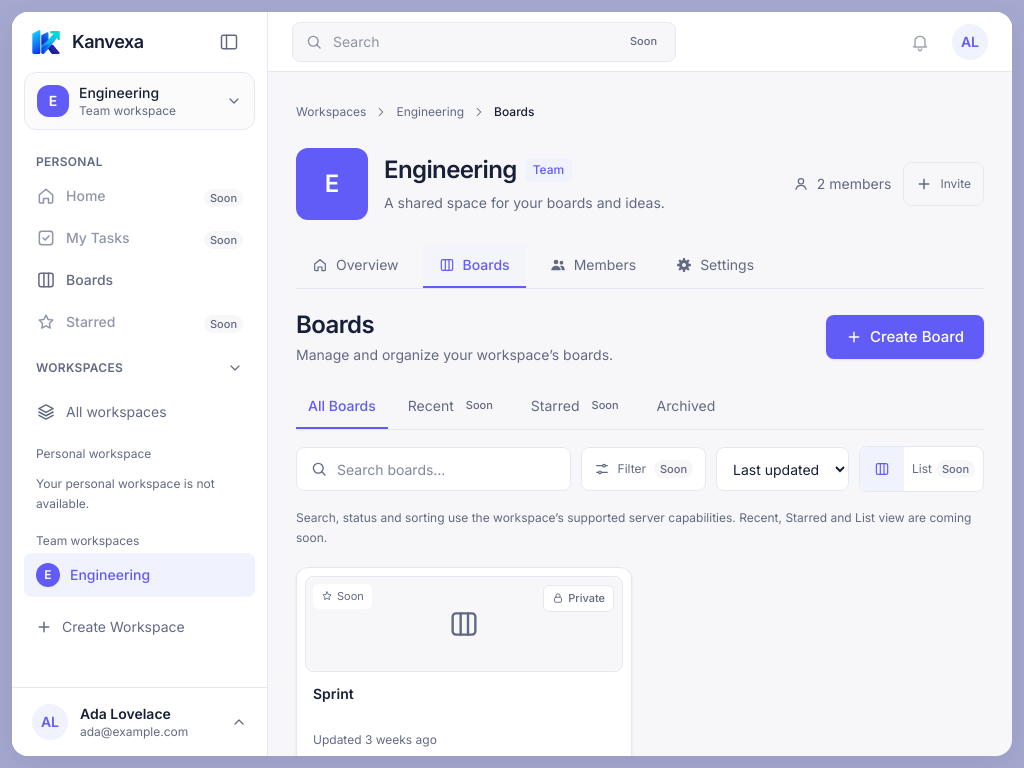
Test case: Workspace routes using production HTTP adapters › rechecks permissions after Board creation receives 403, without retrying the POST
The image size is (1024, 768).
Click the button "Create Board" at {"x": 905, "y": 337}, box [826,315,984,359]
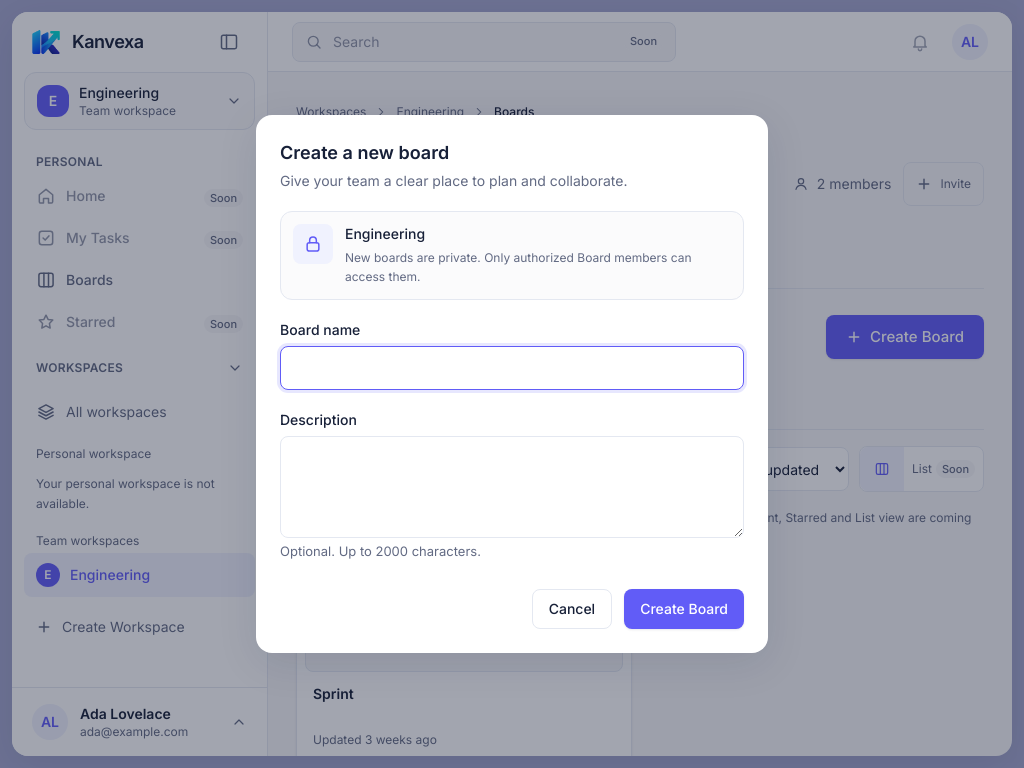
Type "Retained draft" into the field labelled "Board name" at {"x": 512, "y": 368}, box [280,346,744,390]
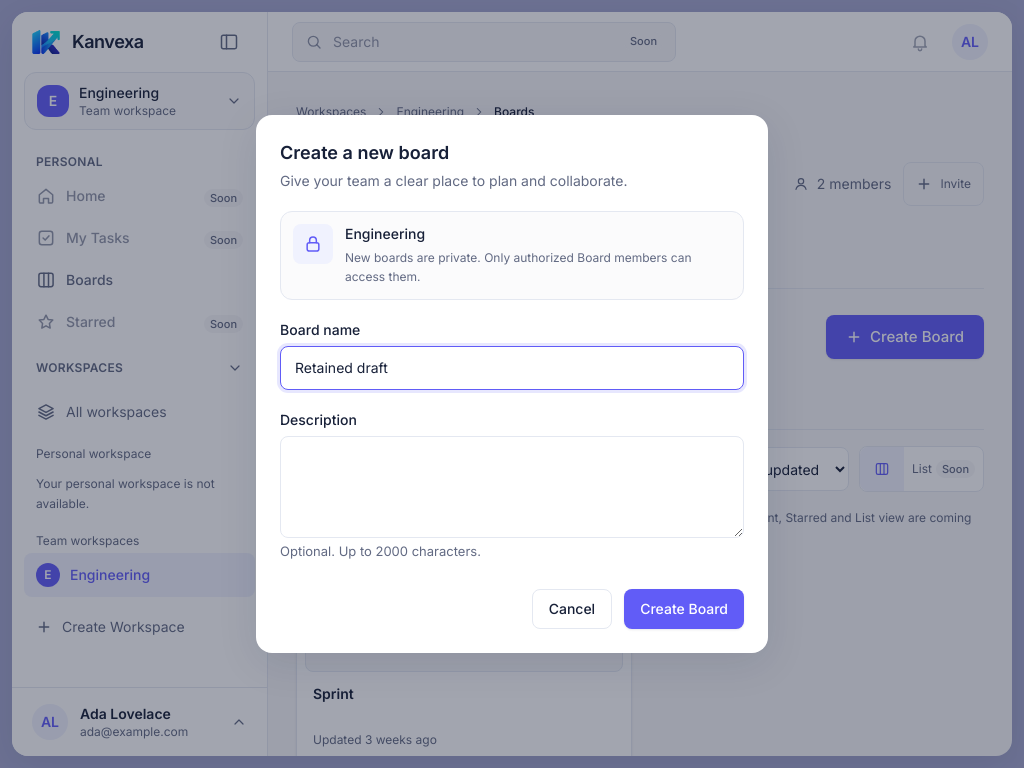
Submit the form, box [280,320,744,629]
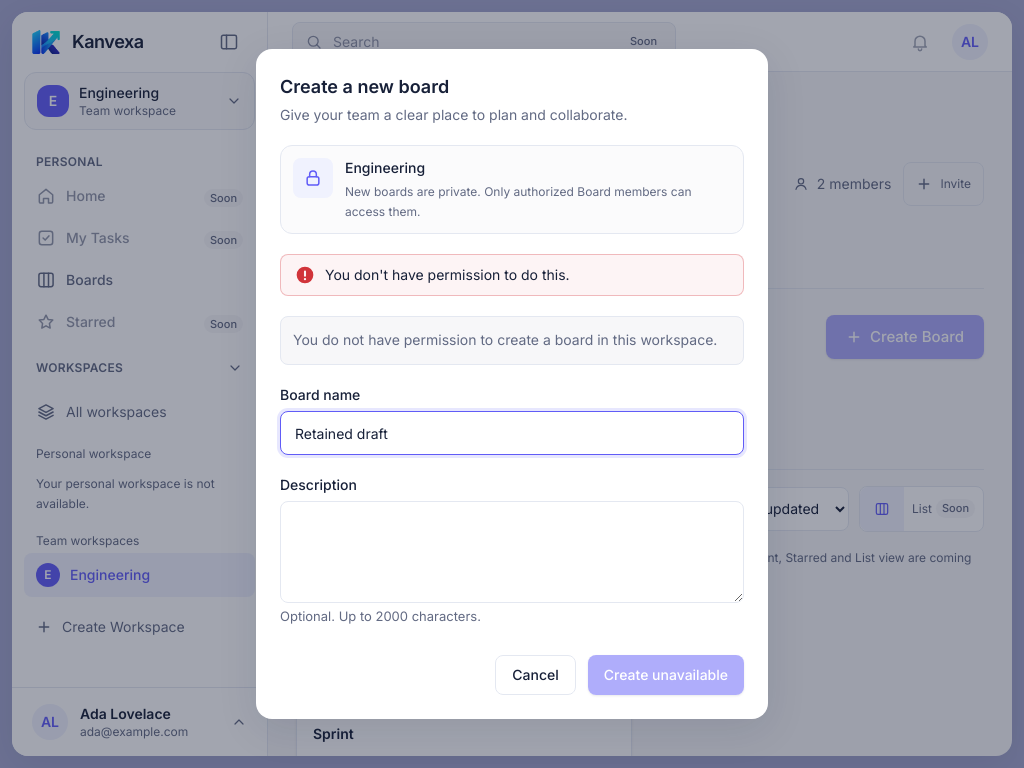
Expected: the button "Create unavailable" is disabled, [588,655,744,695]
